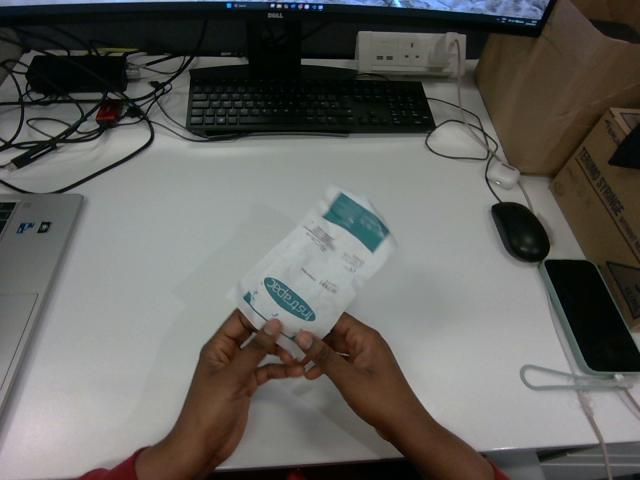gallipot: (233, 186, 395, 358)
